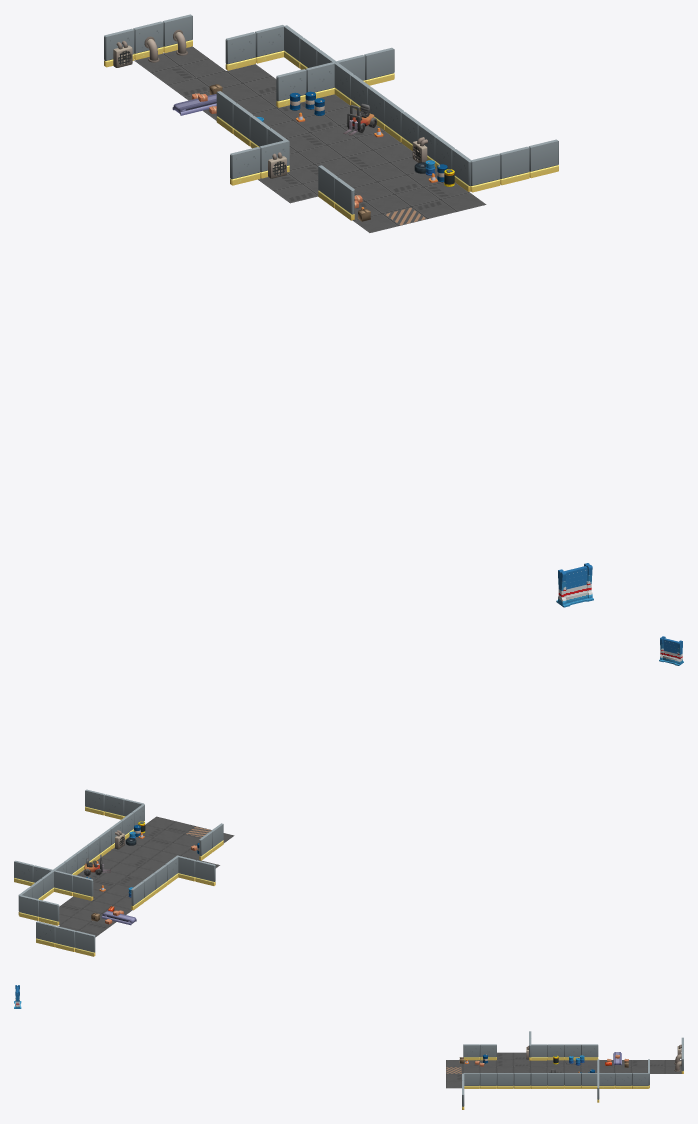
File: main-menu.glb
The picture shows the model from 3 angles, top to bottom: view 1: azimuth 30°, elevation 25°; view 2: azimuth 150°, elevation 25°; view 3: azimuth 270°, elevation 25°; orthographic projection. The views are drawn at different scales.
Visible parts, largest first — view 1: Module 2 (×4), Module 1 (×3), Module 1 (43), Module 2 (1), Module 3; view 2: Module 1 (43); view 3: Module 1 (×4), Module 2 (×4), Module 3 (×3), Module 5, Module 1 (2), Module 8, Module 6, Module 1 (1), Module 7.
Part boxes in pixels (x1=…): Module 2 (×4): x1=225, y1=32, x2=529, y2=185; Module 1 (×3): x1=255, y1=25, x2=500, y2=192; Module 1 (43): x1=556, y1=563, x2=593, y2=607; Module 2 (1): x1=230, y1=147, x2=260, y2=185; Module 3: x1=528, y1=139, x2=558, y2=178; Module 1 (43): x1=659, y1=636, x2=683, y2=665; Module 1 (×4): x1=463, y1=1044, x2=648, y2=1088; Module 2 (×4): x1=480, y1=1044, x2=631, y2=1088; Module 3 (×3): x1=497, y1=1073, x2=615, y2=1088; Module 5: x1=531, y1=1044, x2=547, y2=1060; Module 1 (2): x1=530, y1=1073, x2=547, y2=1088; Module 8: x1=581, y1=1044, x2=598, y2=1060; Module 6: x1=547, y1=1044, x2=564, y2=1060; Module 1 (1): x1=514, y1=1073, x2=530, y2=1088; Module 7: x1=564, y1=1044, x2=581, y2=1060.
Bounding box in the file's own units: 60.81 × 4.51 × 159.
Materials: 13 (13 with a texture image).
